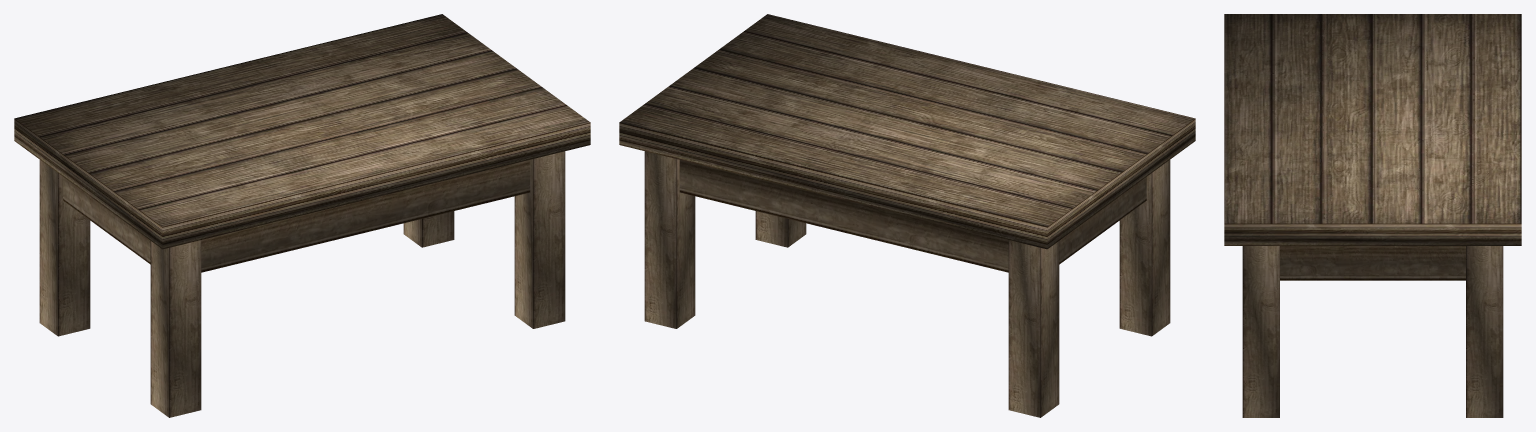
The model's file is GS_CITY_TABLE_NORMAL_YELLOW_01_KOZA.glb.
3 views of the same model, side by side, from view 1: azimuth 30°, elevation 25°; view 2: azimuth 150°, elevation 25°; view 3: azimuth 270°, elevation 25° (orthographic).
Parts seen in each view (by area): view 1: Mesh; view 2: Mesh; view 3: Mesh.
Part boxes in pixels (left/top/right/bottom): Mesh: left=14, top=14, right=590, bottom=417; Mesh: left=619, top=14, right=1195, bottom=417; Mesh: left=1224, top=14, right=1521, bottom=417.
Size of the model in its own units: 2 by 0.9 by 1.2.
Materials: 2 (2 with a texture image).
